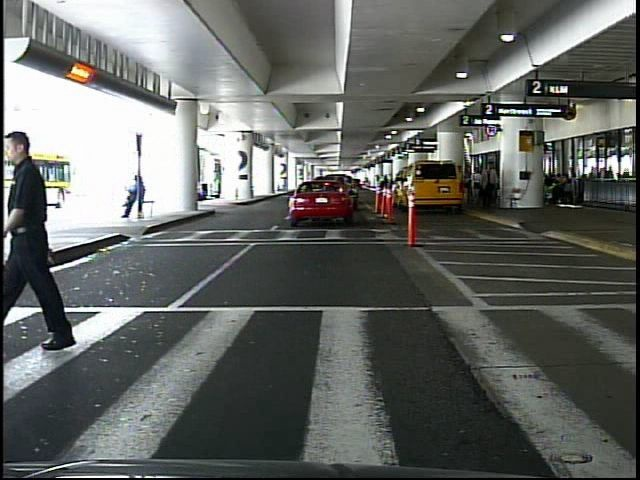person: (9, 127, 89, 345), (481, 163, 499, 209)
